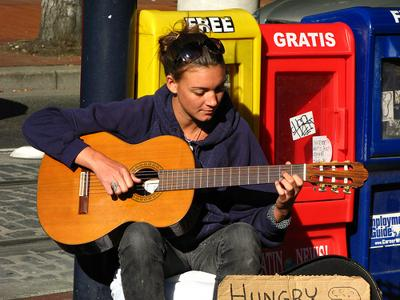person: (21, 27, 305, 300)
